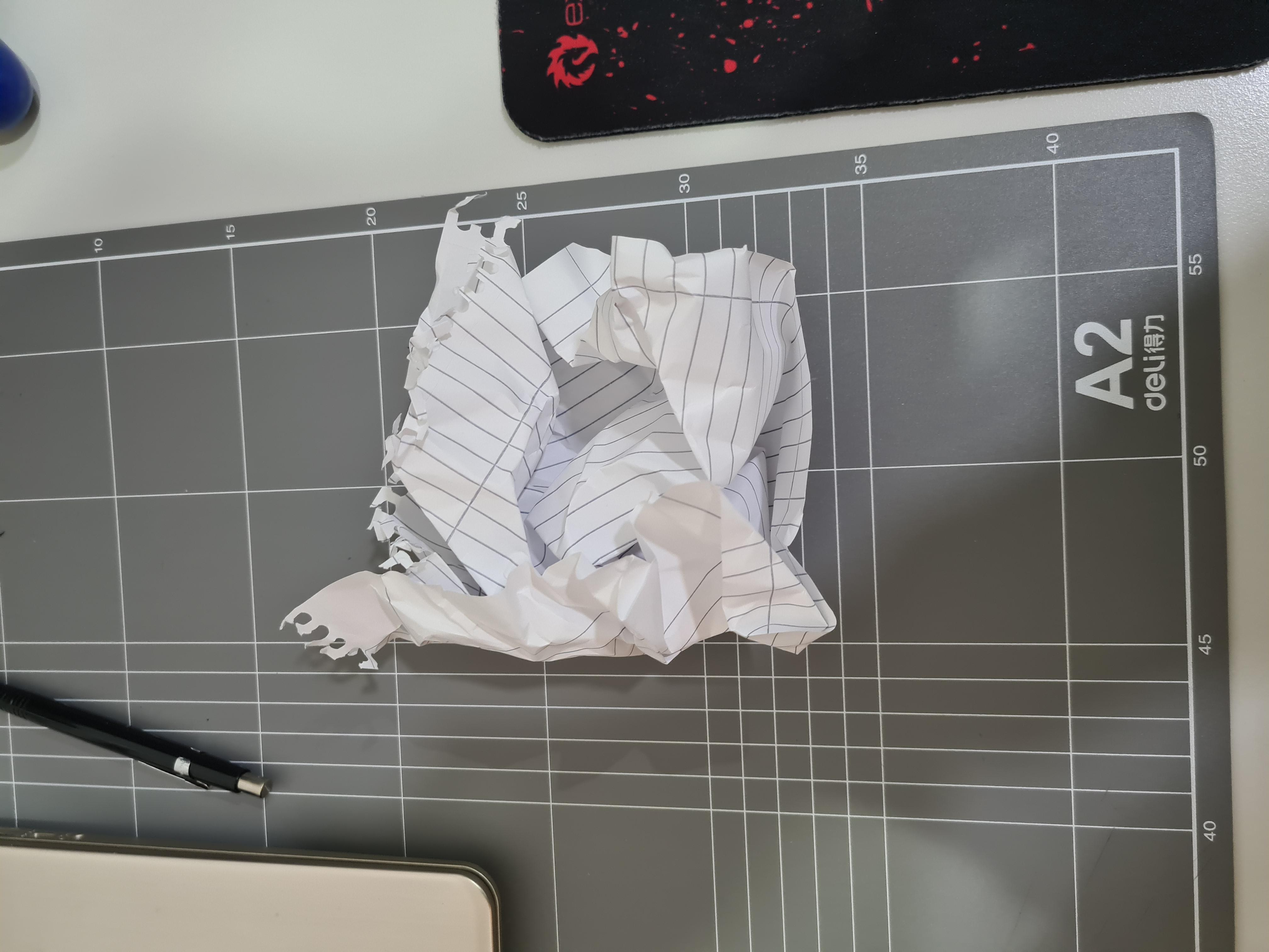paper: (367, 220, 961, 633)
